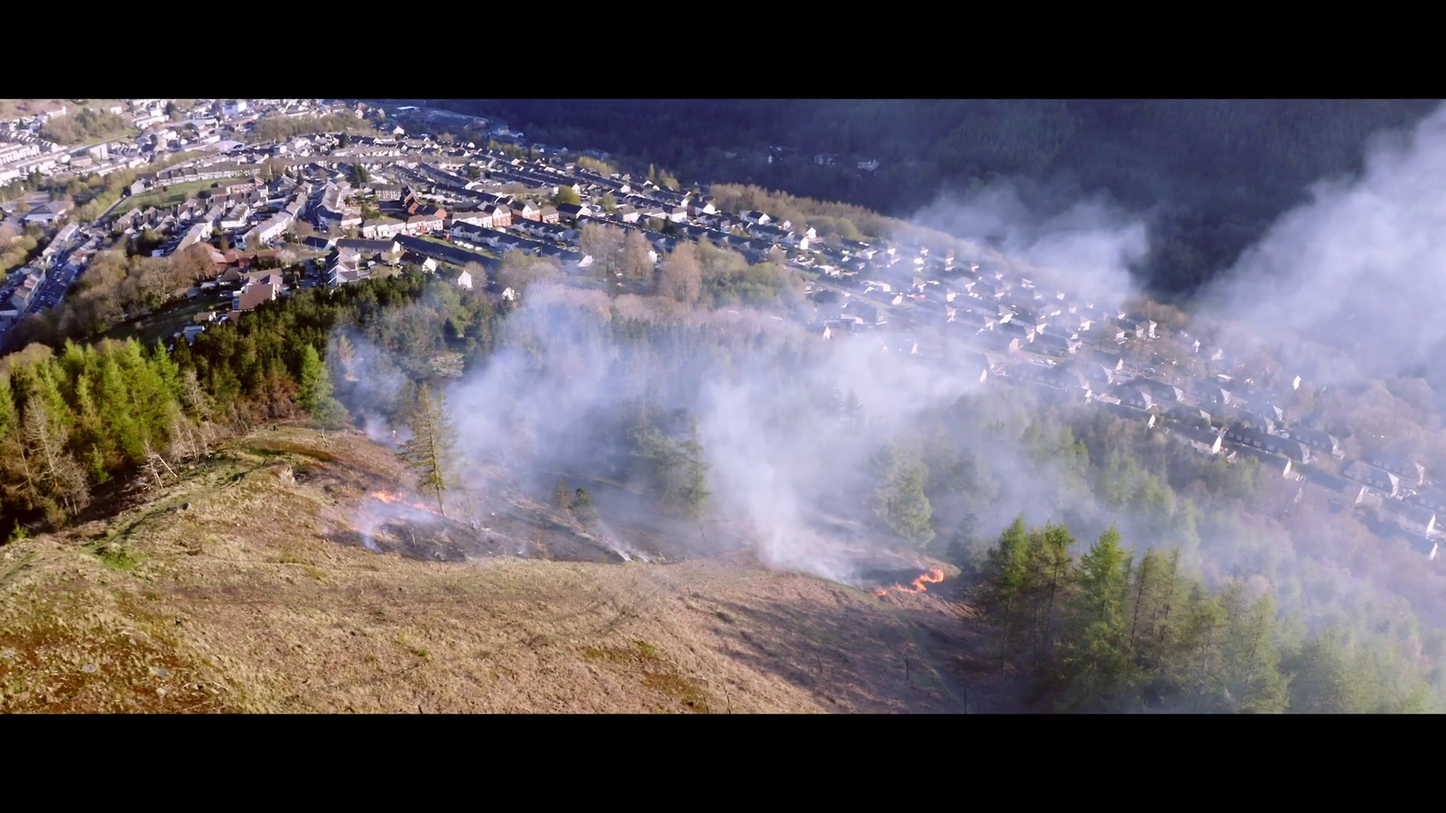forest_fire: (370, 491, 440, 515), (894, 568, 944, 592)
